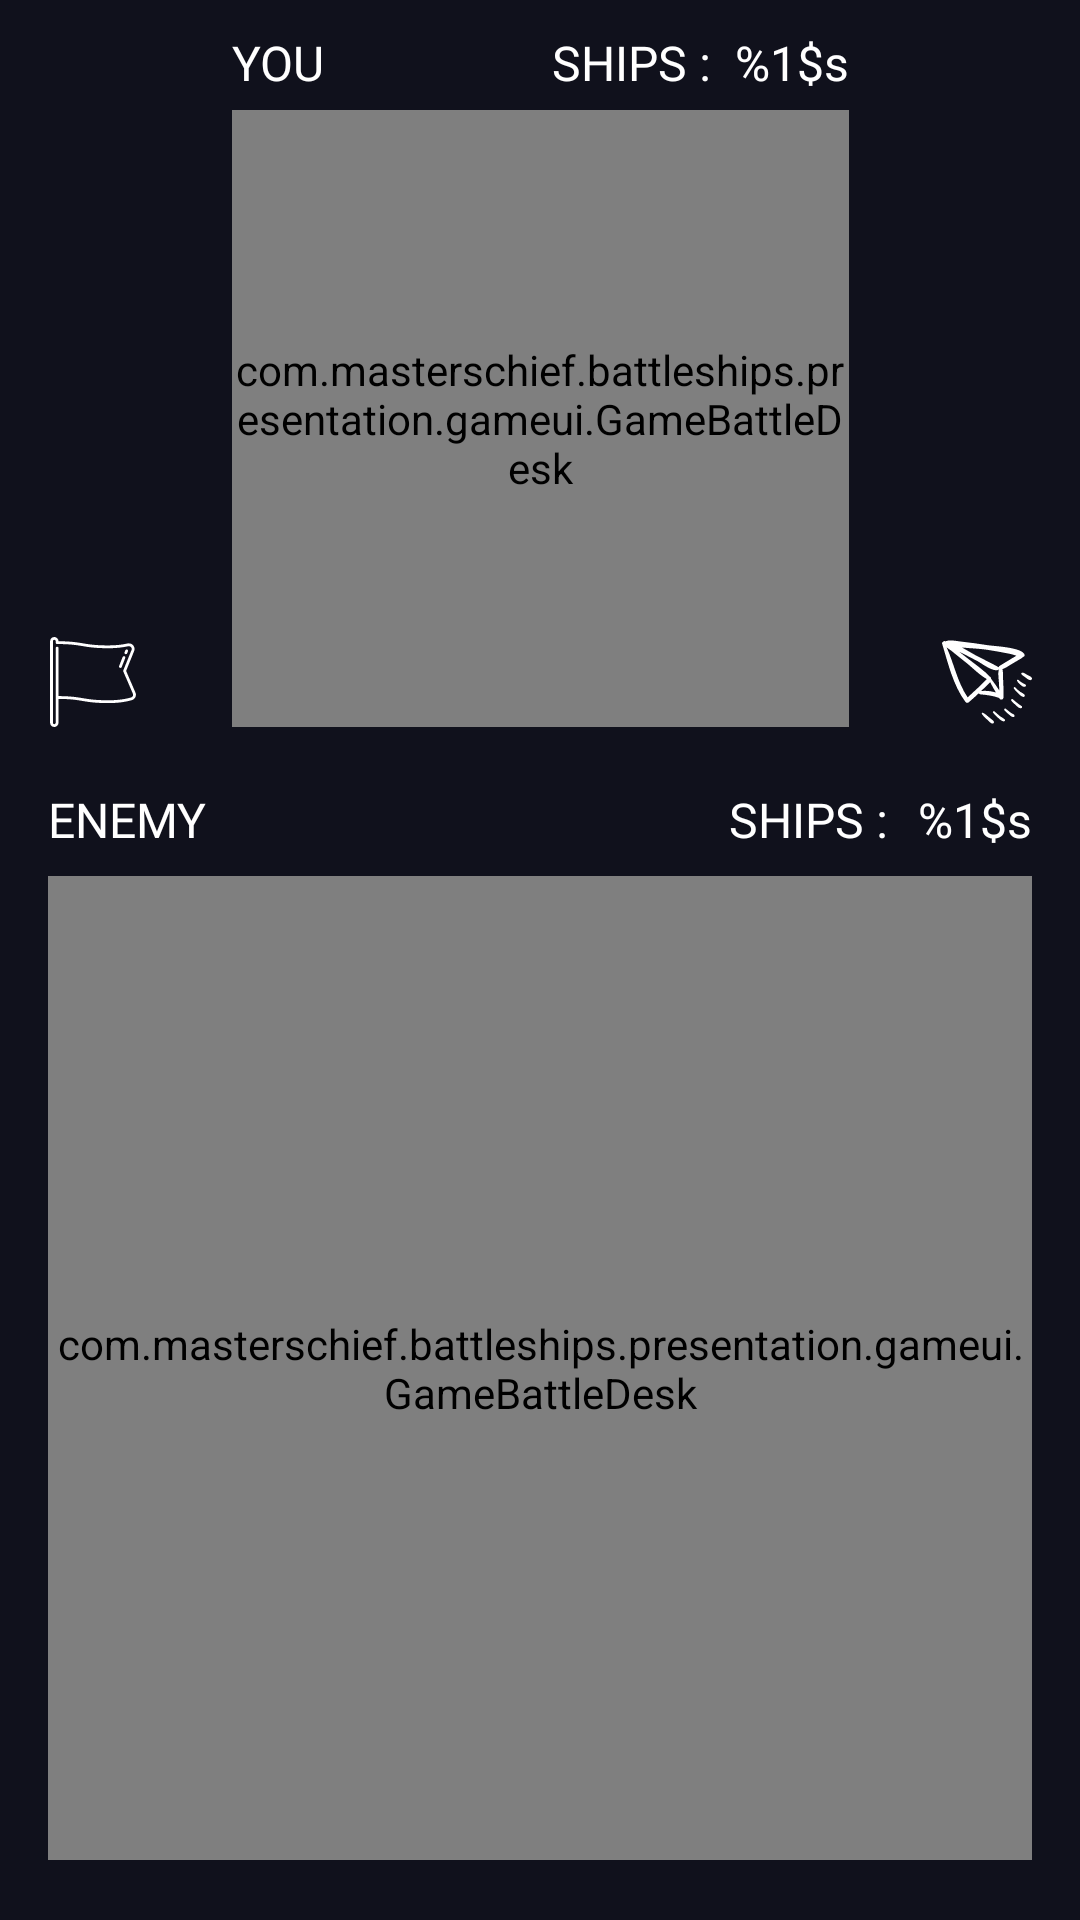

Point at icon controls on the screen. Image size 1080px×1920px, points as (x,y).
flag: (93,682)
